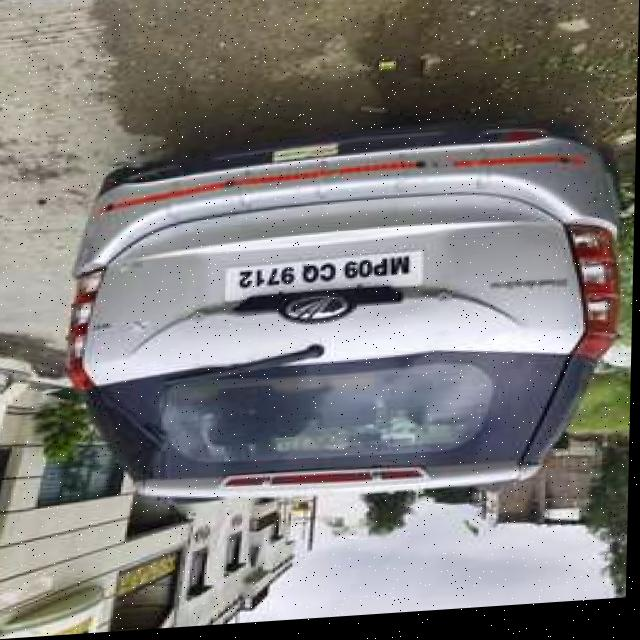plate: (224, 255, 425, 303)
